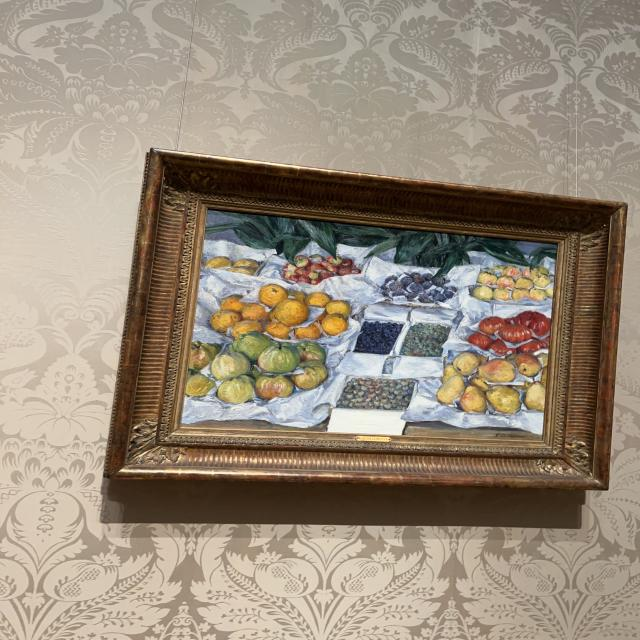fruits: (185, 214, 552, 437)
